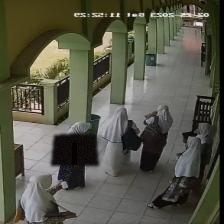Cadar_Niqab: (51, 117, 98, 165)
